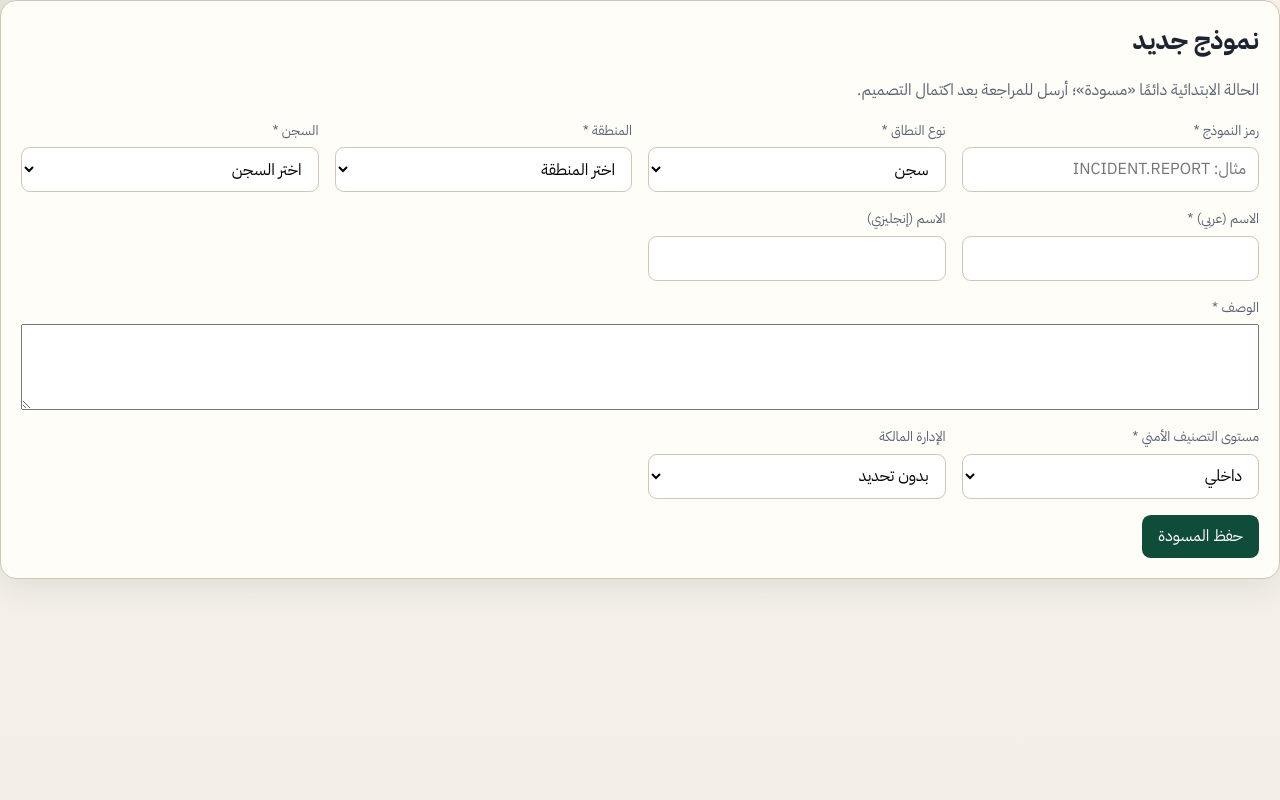
Scenario: FormCreatePage › shows Arabic validation errors when required fields are missing
Click the button "حفظ المسودة": x=1200, y=537 [1142,515,1259,558]
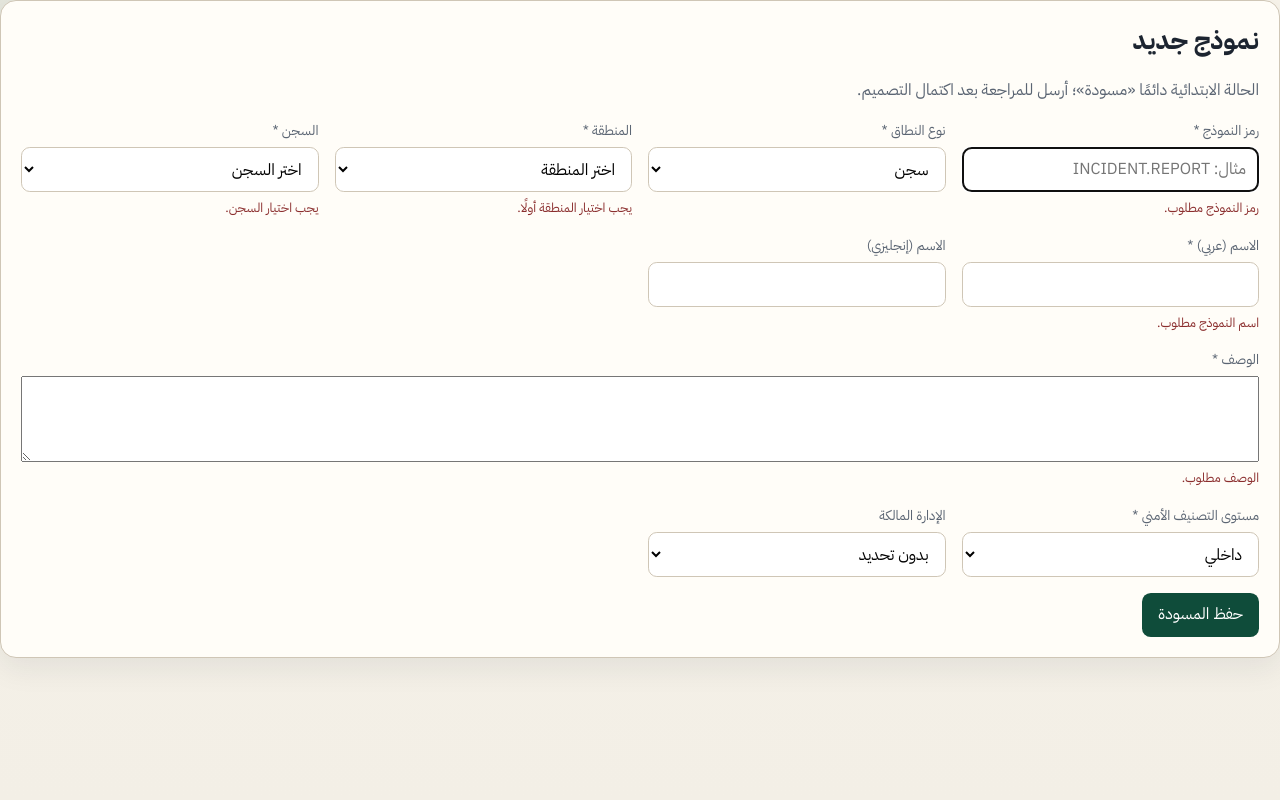
Now the text "رمز النموذج مطلوب." is shown, box [1164,198,1259,217]
Now the text "اسم النموذج مطلوب." is shown, box [1157,313,1259,332]
Now the text "الوصف مطلوب." is shown, box [1182,468,1259,487]
